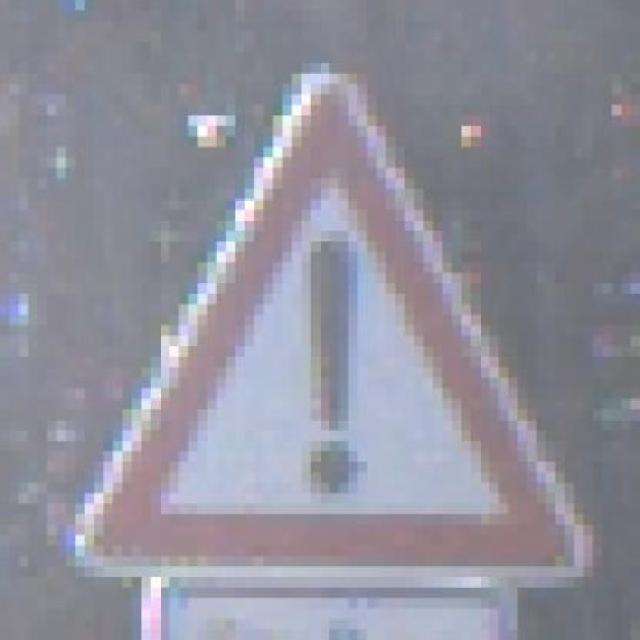Attention Please-: (47, 63, 602, 599)
